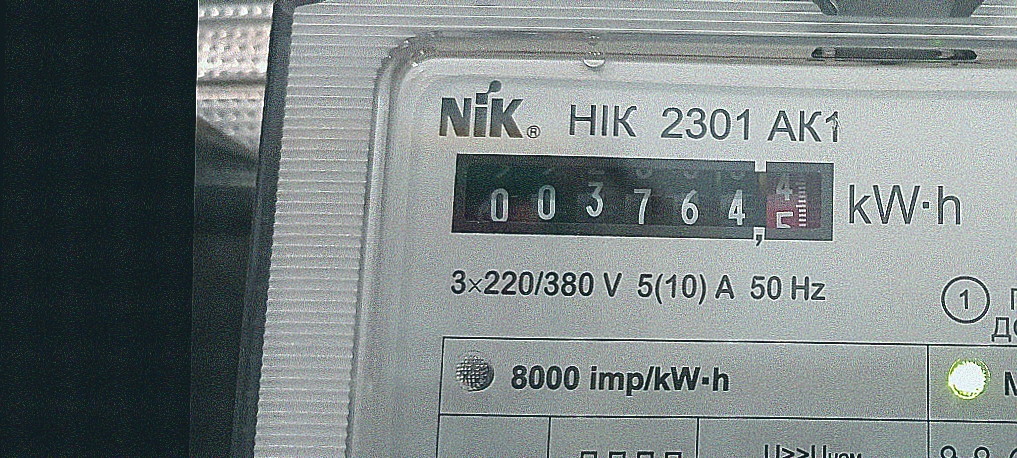0: (487, 184, 512, 222), (535, 181, 558, 221)
3: (583, 178, 607, 218)
4: (728, 186, 748, 226), (775, 169, 796, 202)
5: (774, 208, 796, 230)
6: (680, 186, 701, 225)
7: (631, 183, 655, 226)
screen: (438, 137, 851, 254)
